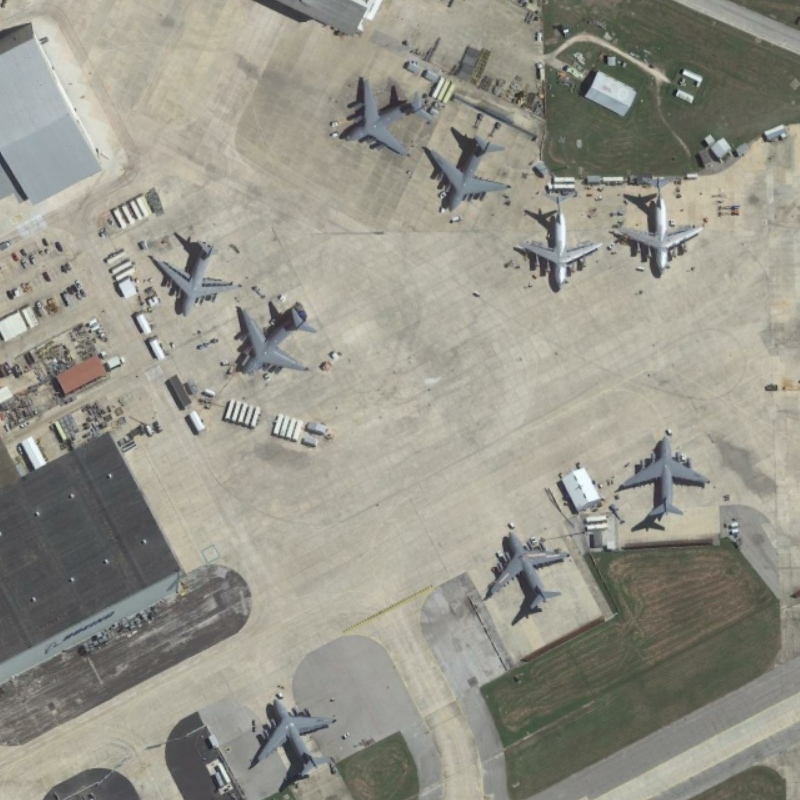A3: (500, 186, 606, 297), (610, 171, 707, 284), (240, 688, 337, 787), (331, 69, 432, 163), (616, 428, 712, 524), (479, 526, 573, 621), (143, 230, 240, 322), (226, 295, 321, 383), (421, 128, 514, 215)
